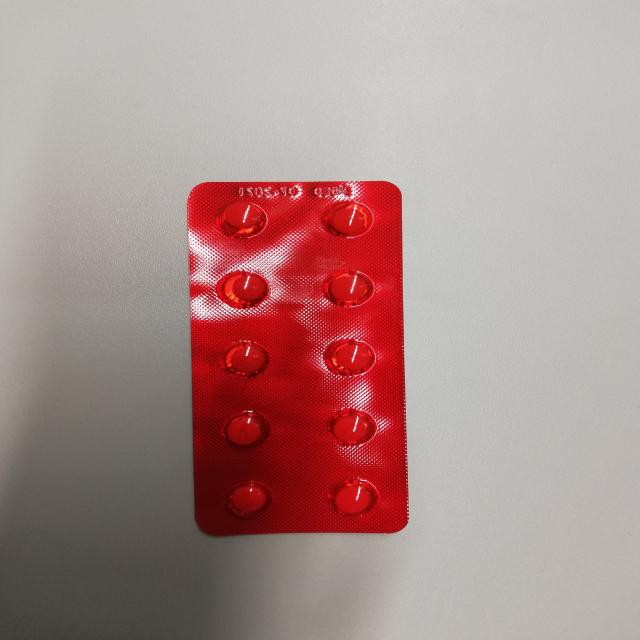Pill: (313, 407, 393, 454), (315, 329, 381, 381), (216, 333, 282, 385), (213, 400, 280, 451), (310, 192, 384, 238), (209, 266, 276, 316), (209, 476, 285, 520), (313, 477, 387, 522), (205, 197, 278, 239), (318, 265, 376, 311)
